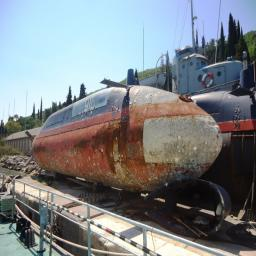submarine: (19, 94, 225, 201)
